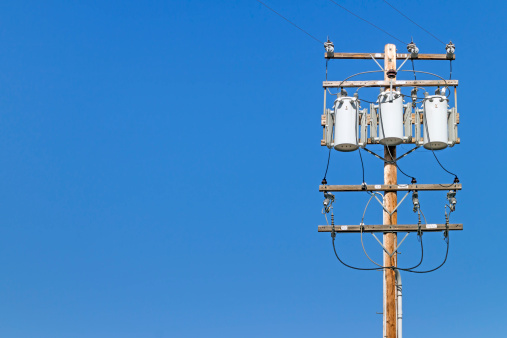utility_pole: (309, 30, 468, 281)
